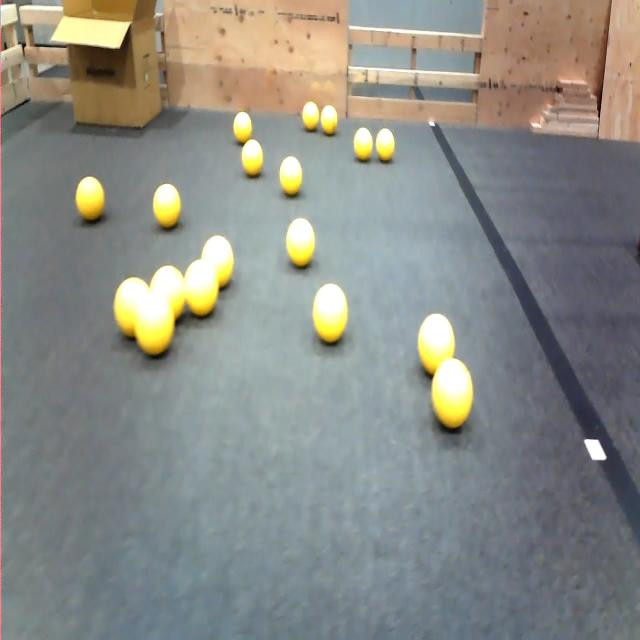fuel: (432, 359, 473, 429), (135, 291, 174, 356), (418, 314, 454, 375), (113, 277, 148, 338), (313, 284, 347, 343), (185, 259, 218, 317), (150, 265, 185, 319), (201, 235, 234, 288), (286, 218, 315, 267), (76, 176, 104, 222), (153, 184, 180, 229), (280, 157, 302, 196), (242, 139, 263, 176), (354, 128, 373, 161), (376, 128, 394, 162), (233, 112, 252, 144), (302, 102, 319, 131), (321, 105, 337, 135)
